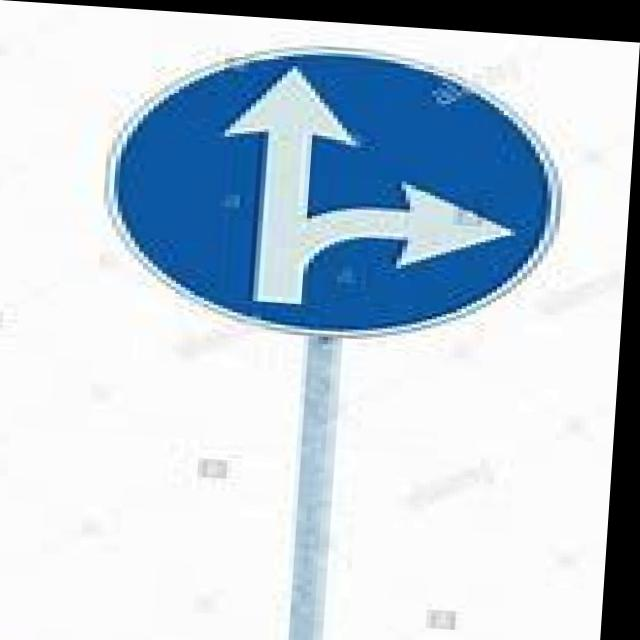COMPULSARY_AHEAD_OR_TURN_RIGHT: (97, 27, 572, 347)
